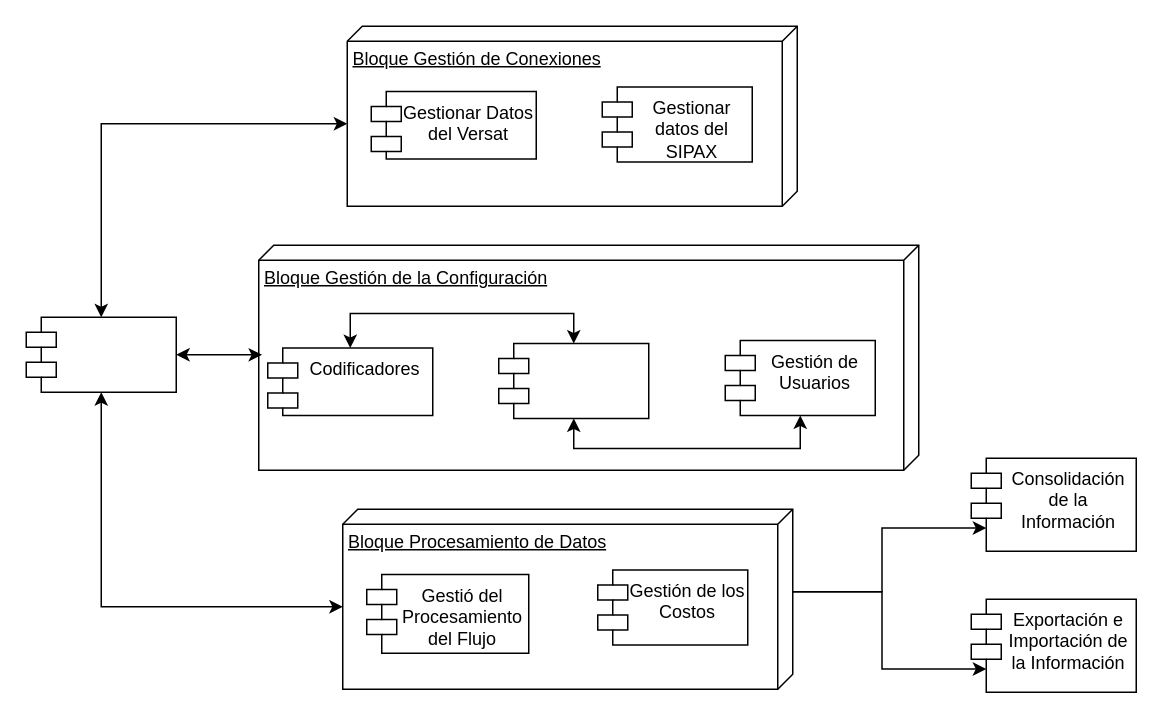
Some shapes in this 1163 by 719 pixel diagram are drawn without their labels. The shapes that lost their labels are listed below. From the top down, each one's centre as x and y in pixels, then its label:
At point (100, 354): "Cuadro de Mando".
At point (573, 380): "Configuración General".
